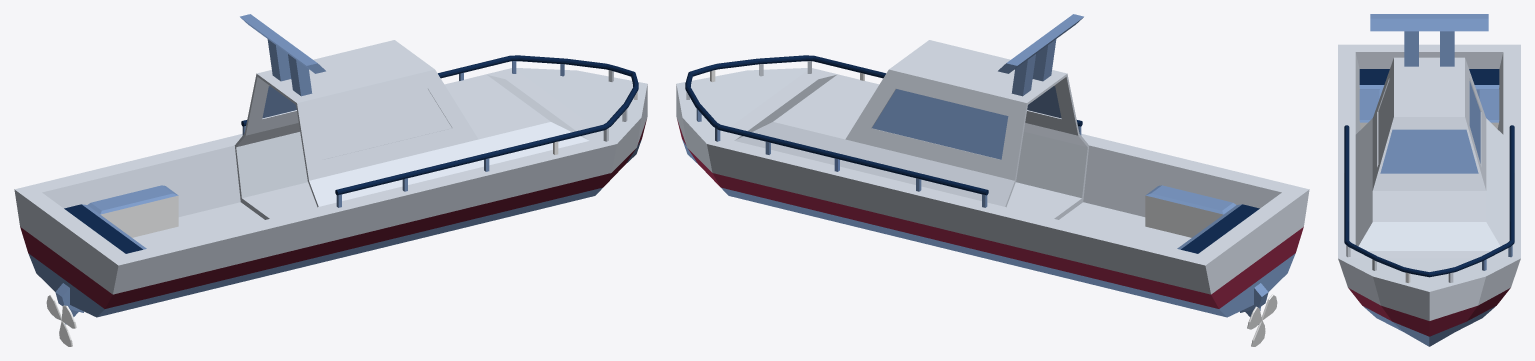
The model's file is big boat.FBX.
The picture shows the model from 3 angles, left to right: view 1: azimuth 30°, elevation 25°; view 2: azimuth 150°, elevation 25°; view 3: azimuth 270°, elevation 25°; orthographic projection. The views are drawn at different scales.
Visible parts, largest first — view 1: Scout_Boat; view 2: Scout_Boat; view 3: Scout_Boat.
Boxes of the visible parts, <box> form: Scout_Boat: <box>14,14,647,346</box>; Scout_Boat: <box>676,14,1309,346</box>; Scout_Boat: <box>1338,14,1520,346</box>.
Size of the model in its own units: 287 by 118 by 87.72.
Materials: 1 (1 with a texture image).
